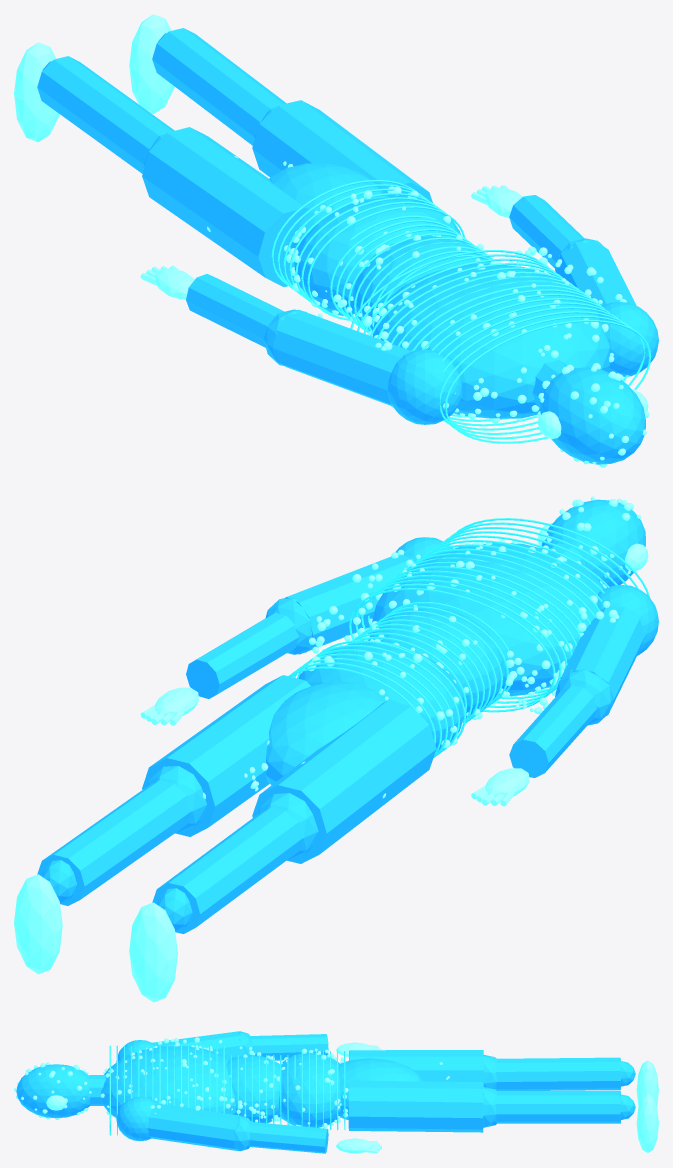
File: male_hologram_body.glb
The picture shows the model from 3 angles, top to bottom: view 1: azimuth 30°, elevation 25°; view 2: azimuth 150°, elevation 25°; view 3: azimuth 270°, elevation 25°; orthographic projection. The views are drawn at different scales.
Parts seen in each view (by area): view 1: male_part_0000, male_part_0028, male_part_0033, male_part_0005, male_part_0030, male_part_0009, male_part_0035, male_part_0002, male_part_0008, male_part_0011, male_part_0001, male_part_0003 (+7 smaller); view 2: male_part_0000, male_part_0028, male_part_0033, male_part_0035, male_part_0030, male_part_0003, male_part_0002, male_part_0001, male_part_0021, male_part_0005, male_part_0019, male_part_0011 (+12 smaller); view 3: male_part_0033, male_part_0000, male_part_0030, male_part_0035, male_part_0002, male_part_0019, male_part_0028, male_part_0005, male_part_0001, male_part_0021, male_part_0003, male_part_0011 (+15 smaller).
Part boxes in pixels (x1,y1,x2,y2): male_part_0000: (372,263,610,418); male_part_0028: (142,127,309,286); male_part_0033: (252,100,432,204); male_part_0005: (540,367,645,464); male_part_0030: (37,56,174,173); male_part_0009: (273,309,411,405); male_part_0035: (152,28,286,145); male_part_0002: (294,197,460,318); male_part_0008: (388,349,461,424); male_part_0011: (186,274,284,347); male_part_0001: (353,236,490,331); male_part_0003: (269,163,389,249); male_part_0000: (372,543,604,697); male_part_0028: (252,700,436,863); male_part_0033: (142,675,310,836); male_part_0035: (37,780,191,905); male_part_0030: (152,807,302,933); male_part_0003: (266,681,386,784); male_part_0002: (298,643,464,751); male_part_0001: (363,608,505,717); male_part_0021: (186,612,299,698); male_part_0005: (541,499,645,586); male_part_0019: (284,554,414,654); male_part_0011: (509,685,596,777); male_part_0033: (348,1080,483,1132); male_part_0000: (101,1046,235,1117); male_part_0030: (495,1057,620,1090); male_part_0035: (495,1091,620,1123); male_part_0002: (279,1052,341,1127); male_part_0019: (147,1103,242,1150); male_part_0028: (349,1050,483,1082); male_part_0005: (16,1064,90,1118); male_part_0001: (226,1055,279,1123); male_part_0021: (249,1122,328,1153); male_part_0003: (338,1058,423,1119); male_part_0011: (251,1034,328,1060).
Size of the model in its own units: 1.68 by 0.6046 by 4.32.
